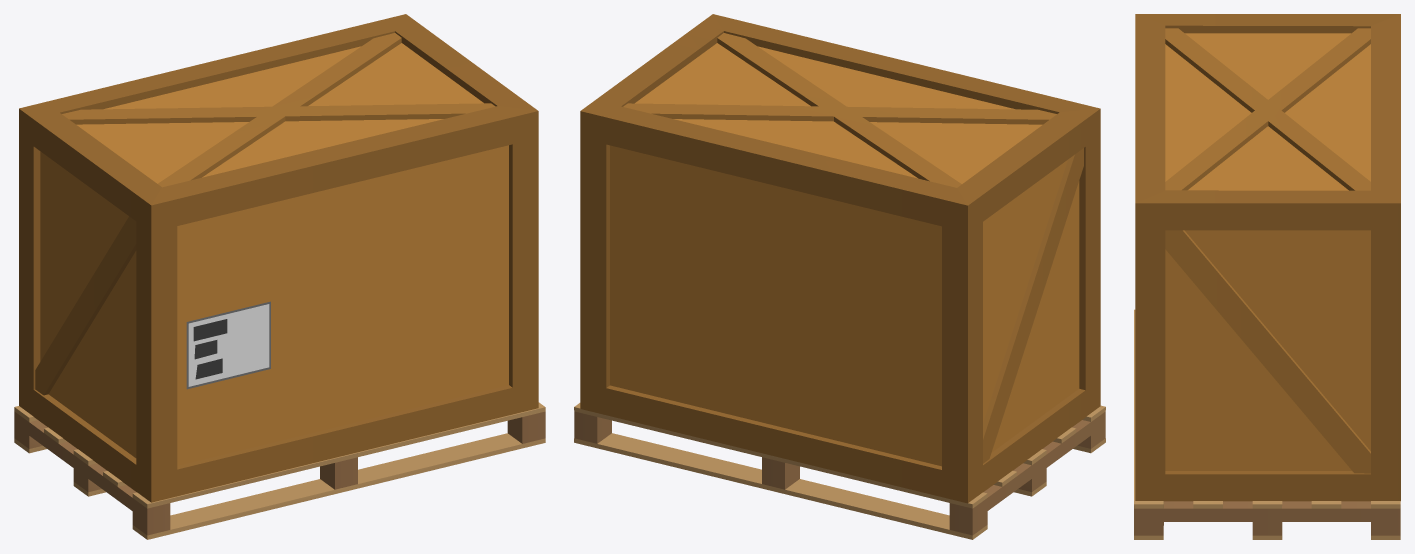
The model's file is Med Shipping Crate #1.fbx.
3 renders of one model, left to right at view 1: azimuth 30°, elevation 25°; view 2: azimuth 150°, elevation 25°; view 3: azimuth 270°, elevation 25°, orthographic.
Parts seen in each view (by area): view 1: Med Shipping Crate #1; view 2: Med Shipping Crate #1; view 3: Med Shipping Crate #1.
Boxes of the visible parts, <box> form: Med Shipping Crate #1: <box>14,14,545,539</box>; Med Shipping Crate #1: <box>574,14,1105,539</box>; Med Shipping Crate #1: <box>1134,14,1400,539</box>.
Bounding box in the file's own units: 488 × 353 × 609.
1 material, 1 textured.
